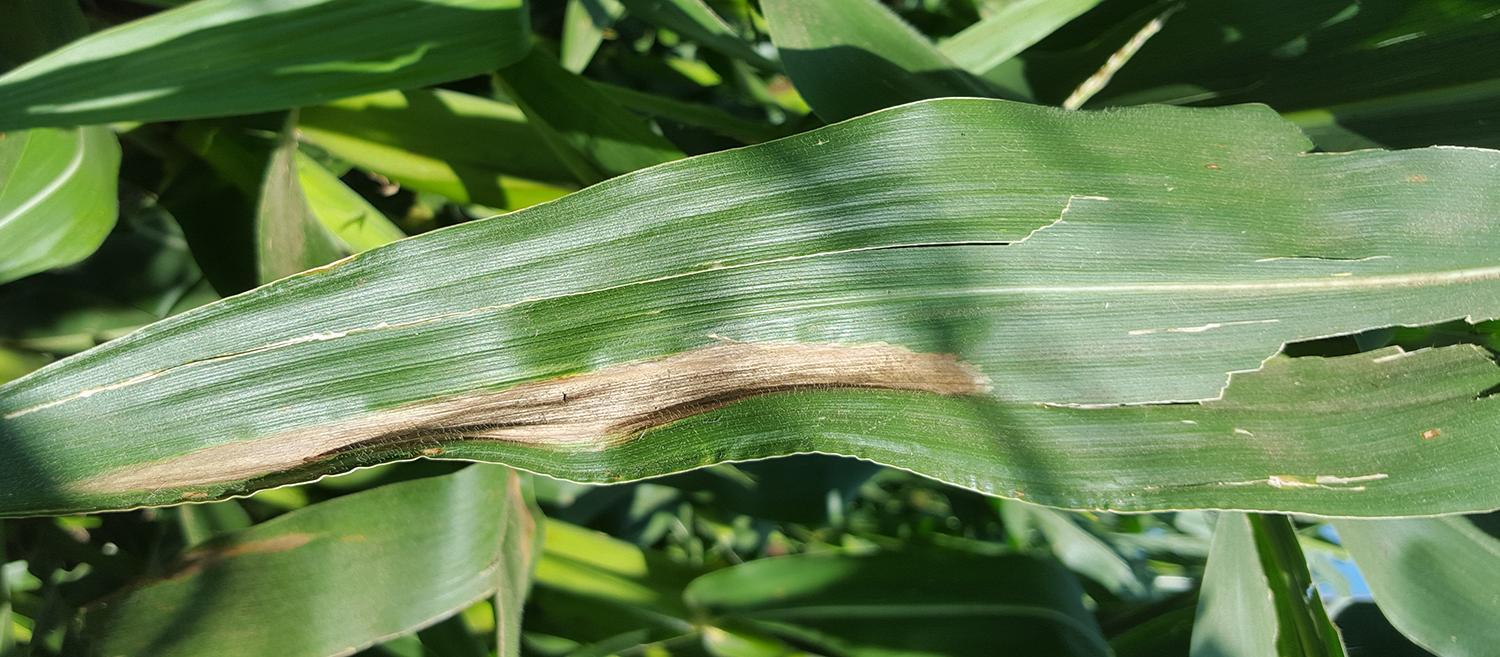Corn_Blight: (109, 331, 1016, 523), (1213, 450, 1410, 530)
